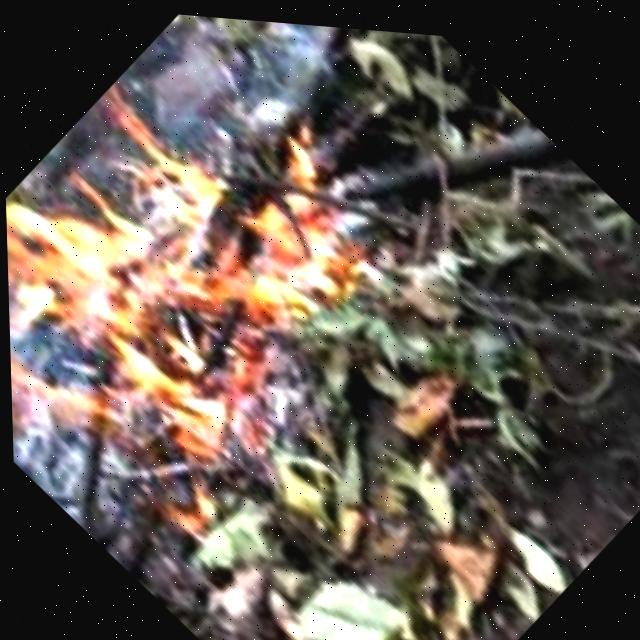Fire: (0, 0, 468, 615)
